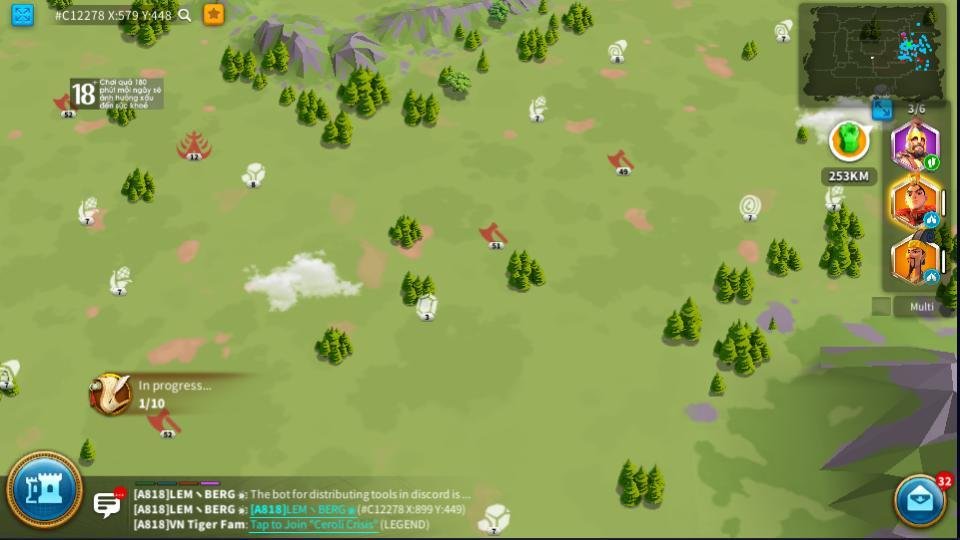gem-z-out: (477, 518, 507, 533)
march_idle: (923, 213, 938, 225), (924, 271, 939, 283)
march_marching: (923, 156, 938, 169)
